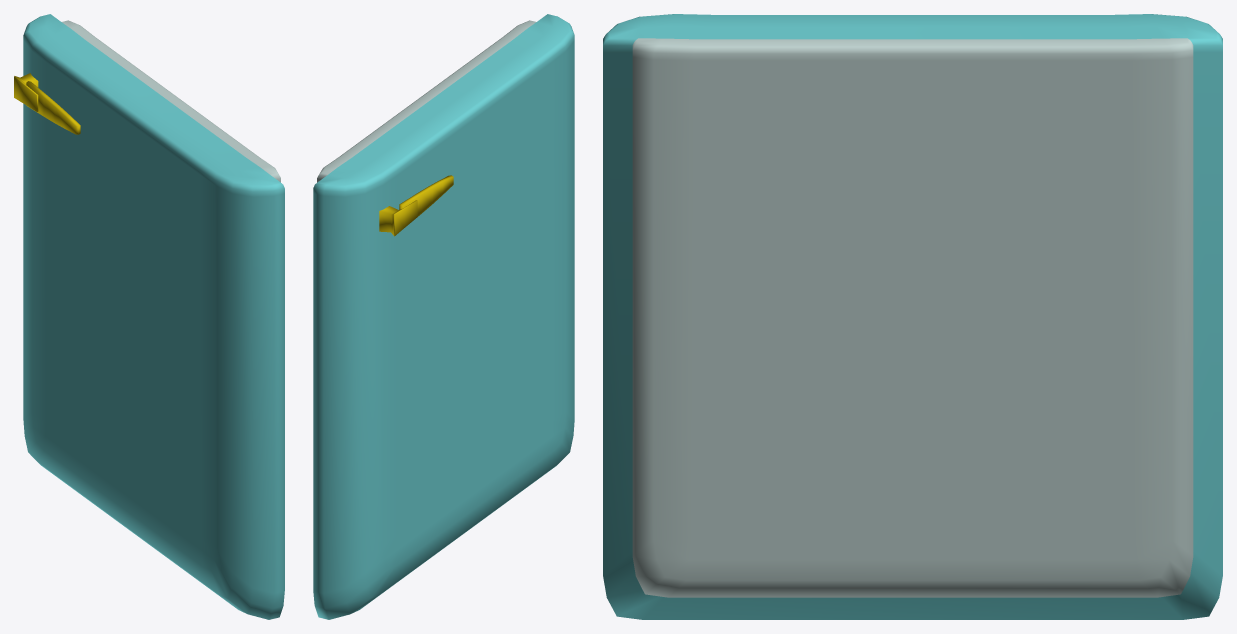
Rendered from MOD_APP_Fridge_door_02.fbx.
3 renders of one model, left to right at view 1: azimuth 30°, elevation 25°; view 2: azimuth 150°, elevation 25°; view 3: azimuth 270°, elevation 25°, orthographic. The views are drawn at different scales.
Parts seen in each view (by area): view 1: HSH_MOD_Fridge_door_02; view 2: HSH_MOD_Fridge_door_02; view 3: HSH_MOD_Fridge_door_02.
Boxes of the visible parts, box(x1,y1,x2,y2) form: HSH_MOD_Fridge_door_02: box(14, 14, 284, 619); HSH_MOD_Fridge_door_02: box(313, 14, 574, 619); HSH_MOD_Fridge_door_02: box(603, 14, 1222, 619).
Bounding box in the file's own units: 15.39 × 91.94 × 88.97.
